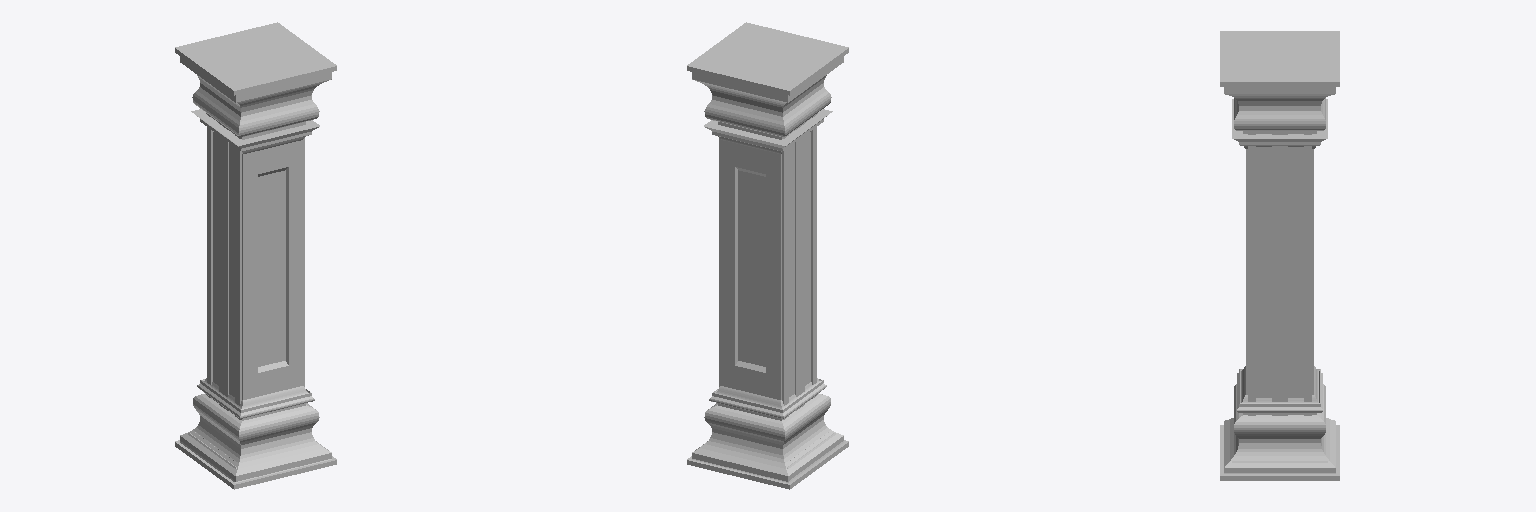
The model's file is Column2.obj.
3 views of the same model, side by side, from view 1: azimuth 30°, elevation 25°; view 2: azimuth 150°, elevation 25°; view 3: azimuth 270°, elevation 25° (orthographic).
Parts seen in each view (by area): view 1: Cube_Cube.003, Column2; view 2: Cube_Cube.003, Column2; view 3: Column2, Cube_Cube.003.
Boxes of the visible parts, <box> form: Cube_Cube.003: <box>180,57,331,481</box>; Column2: <box>175,22,336,489</box>; Cube_Cube.003: <box>692,57,843,481</box>; Column2: <box>687,22,848,489</box>; Column2: <box>1220,31,1339,480</box>; Cube_Cube.003: <box>1224,87,1335,472</box>.
Size of the model in its own units: 2 by 7.37 by 2.